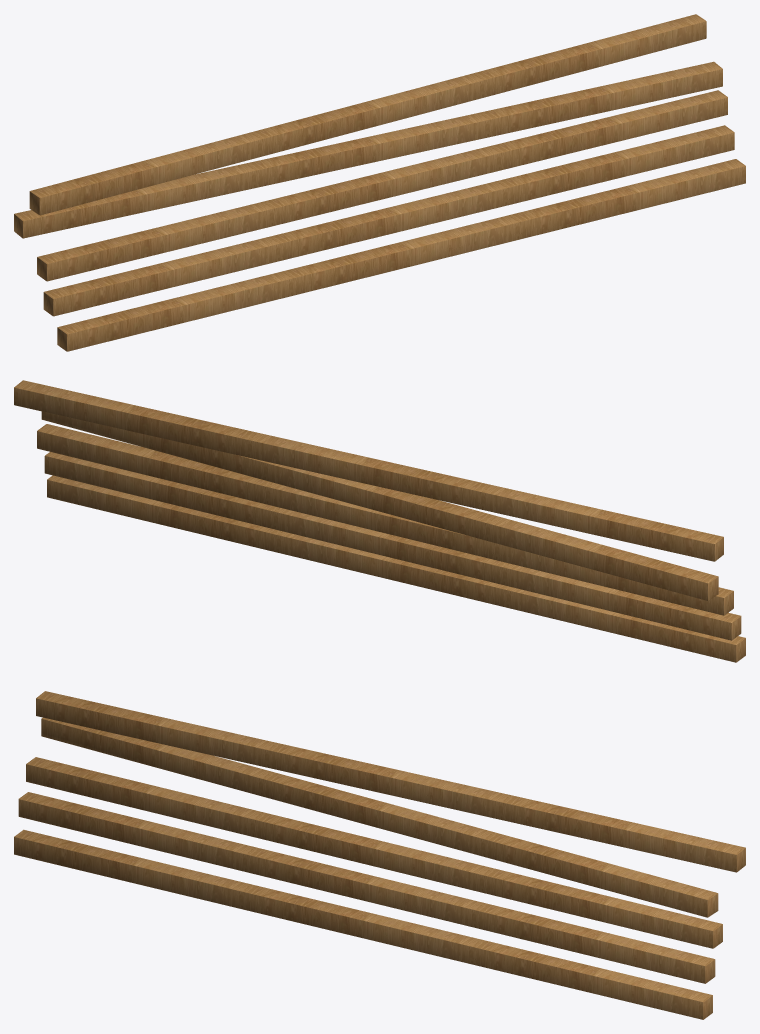
The model's file is EST-FOR-005_anim.glb.
The picture shows the model from 3 angles, top to bottom: view 1: azimuth 30°, elevation 25°; view 2: azimuth 150°, elevation 25°; view 3: azimuth 330°, elevation 25°; orthographic projection.
Parts seen in each view (by area): view 1: EST-FOR-005_anim1, EST-FOR-005_anim2, EST-FOR-005_anim0, EST-FOR-005_anim4, EST-FOR-005_anim3; view 2: EST-FOR-005_anim4, EST-FOR-005_anim1, EST-FOR-005_anim0, EST-FOR-005_anim3, EST-FOR-005_anim2; view 3: EST-FOR-005_anim4, EST-FOR-005_anim0, EST-FOR-005_anim1, EST-FOR-005_anim2, EST-FOR-005_anim3.
Part boxes in pixels (box(x1,y1,x2,y2)): EST-FOR-005_anim1: box(43, 125, 734, 316); EST-FOR-005_anim2: box(37, 90, 727, 281); EST-FOR-005_anim0: box(57, 159, 745, 351); EST-FOR-005_anim4: box(29, 14, 706, 215); EST-FOR-005_anim3: box(14, 61, 722, 238); EST-FOR-005_anim4: box(14, 380, 723, 561); EST-FOR-005_anim1: box(44, 452, 741, 640); EST-FOR-005_anim0: box(47, 475, 745, 662); EST-FOR-005_anim3: box(41, 411, 718, 600); EST-FOR-005_anim2: box(37, 424, 733, 615); EST-FOR-005_anim4: box(36, 691, 745, 872); EST-FOR-005_anim0: box(14, 829, 712, 1019); EST-FOR-005_anim1: box(18, 792, 715, 983); EST-FOR-005_anim2: box(26, 757, 722, 948); EST-FOR-005_anim3: box(41, 717, 718, 917).
Size of the model in its own units: 3.04 by 0.5751 by 0.3733.
Materials: 1 (1 with a texture image).
